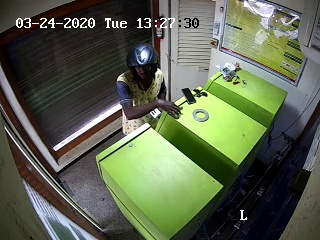helmet: (124, 43, 161, 85)
